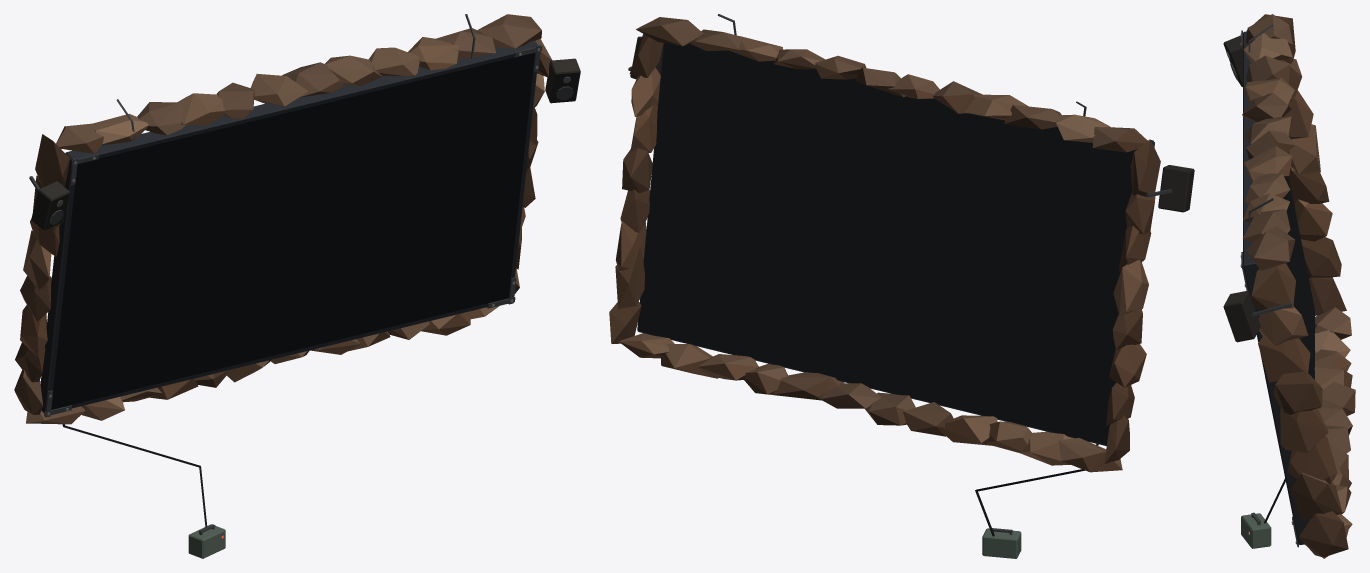
Rendered from tl_furn_wall_screen_v01.glb.
The picture shows the model from 3 angles, left to right: view 1: azimuth 30°, elevation 25°; view 2: azimuth 150°, elevation 25°; view 3: azimuth 270°, elevation 25°; orthographic projection. The views are drawn at different scales.
Parts seen in each view (by area): view 1: tl_furn_wall_screen_v01; view 2: tl_furn_wall_screen_v01; view 3: tl_furn_wall_screen_v01.
Part boxes in pixels (bbox=[...]): tl_furn_wall_screen_v01: bbox=[14, 14, 580, 558]; tl_furn_wall_screen_v01: bbox=[609, 14, 1194, 558]; tl_furn_wall_screen_v01: bbox=[1223, 14, 1355, 558].
Size of the model in its own units: 15.1 by 12.45 by 3.13.
